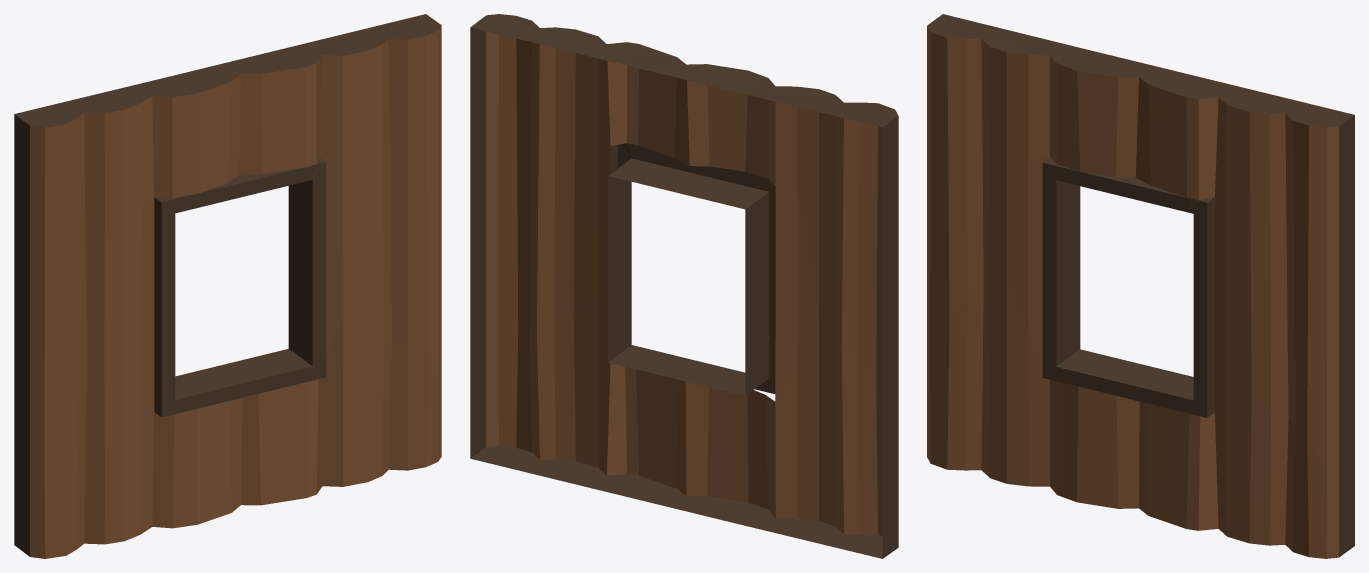
Rendered from wall-wood-window-vertical-3x3m.fbx.
3 renders of one model, left to right at view 1: azimuth 30°, elevation 25°; view 2: azimuth 150°, elevation 25°; view 3: azimuth 330°, elevation 25°, orthographic.
Visible parts, largest first — view 1: wall-wood-window-vertical-3x3m; view 2: wall-wood-window-vertical-3x3m; view 3: wall-wood-window-vertical-3x3m.
Part boxes in pixels (<box>): wall-wood-window-vertical-3x3m: <box>14,14,441,558</box>; wall-wood-window-vertical-3x3m: <box>470,14,898,558</box>; wall-wood-window-vertical-3x3m: <box>927,14,1354,558</box>.
Bounding box in the file's own units: 3 × 3 × 0.3163.
